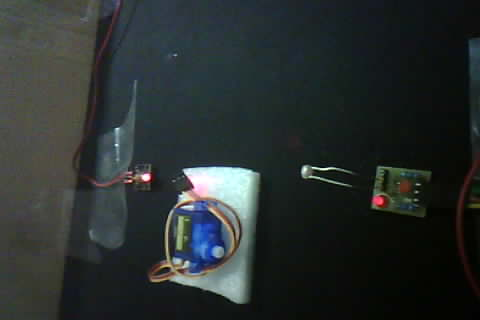motor: (150, 156, 258, 295)
